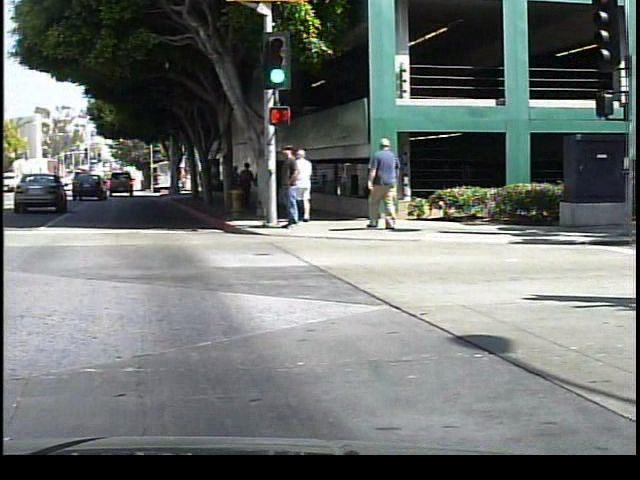person: (359, 135, 407, 233), (275, 143, 304, 235), (289, 145, 320, 221), (238, 160, 255, 207)
